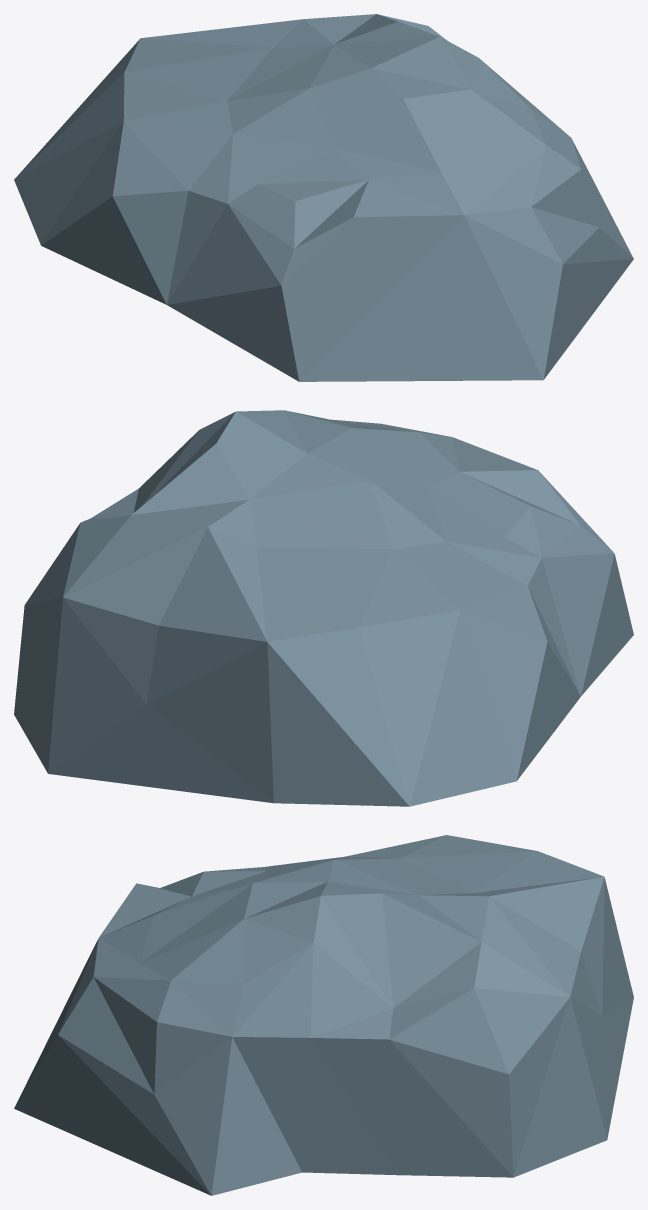
Rendered from rock_0.glb.
3 views of the same model, one above another, from view 1: azimuth 30°, elevation 25°; view 2: azimuth 150°, elevation 25°; view 3: azimuth 270°, elevation 25° (orthographic). The views are drawn at different scales.
Parts seen in each view (by area): view 1: group1922369548; view 2: group1922369548; view 3: group1922369548.
Boxes of the visible parts, box(x1,y1,x2,y2) form: group1922369548: box(14, 14, 633, 381); group1922369548: box(14, 410, 633, 806); group1922369548: box(14, 835, 633, 1195).
Size of the model in its own units: 0.9114 by 0.4235 by 1.01.
